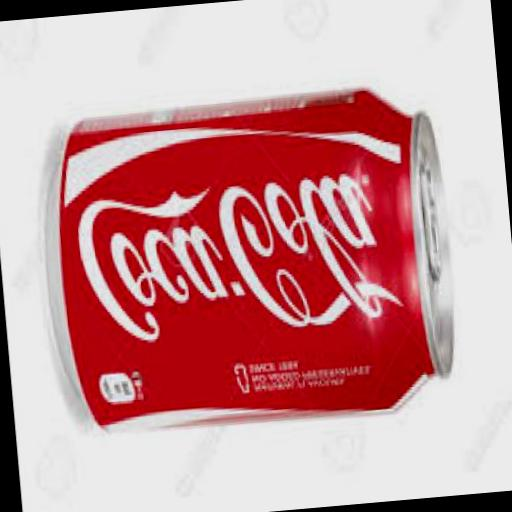metal: (36, 84, 463, 446)
